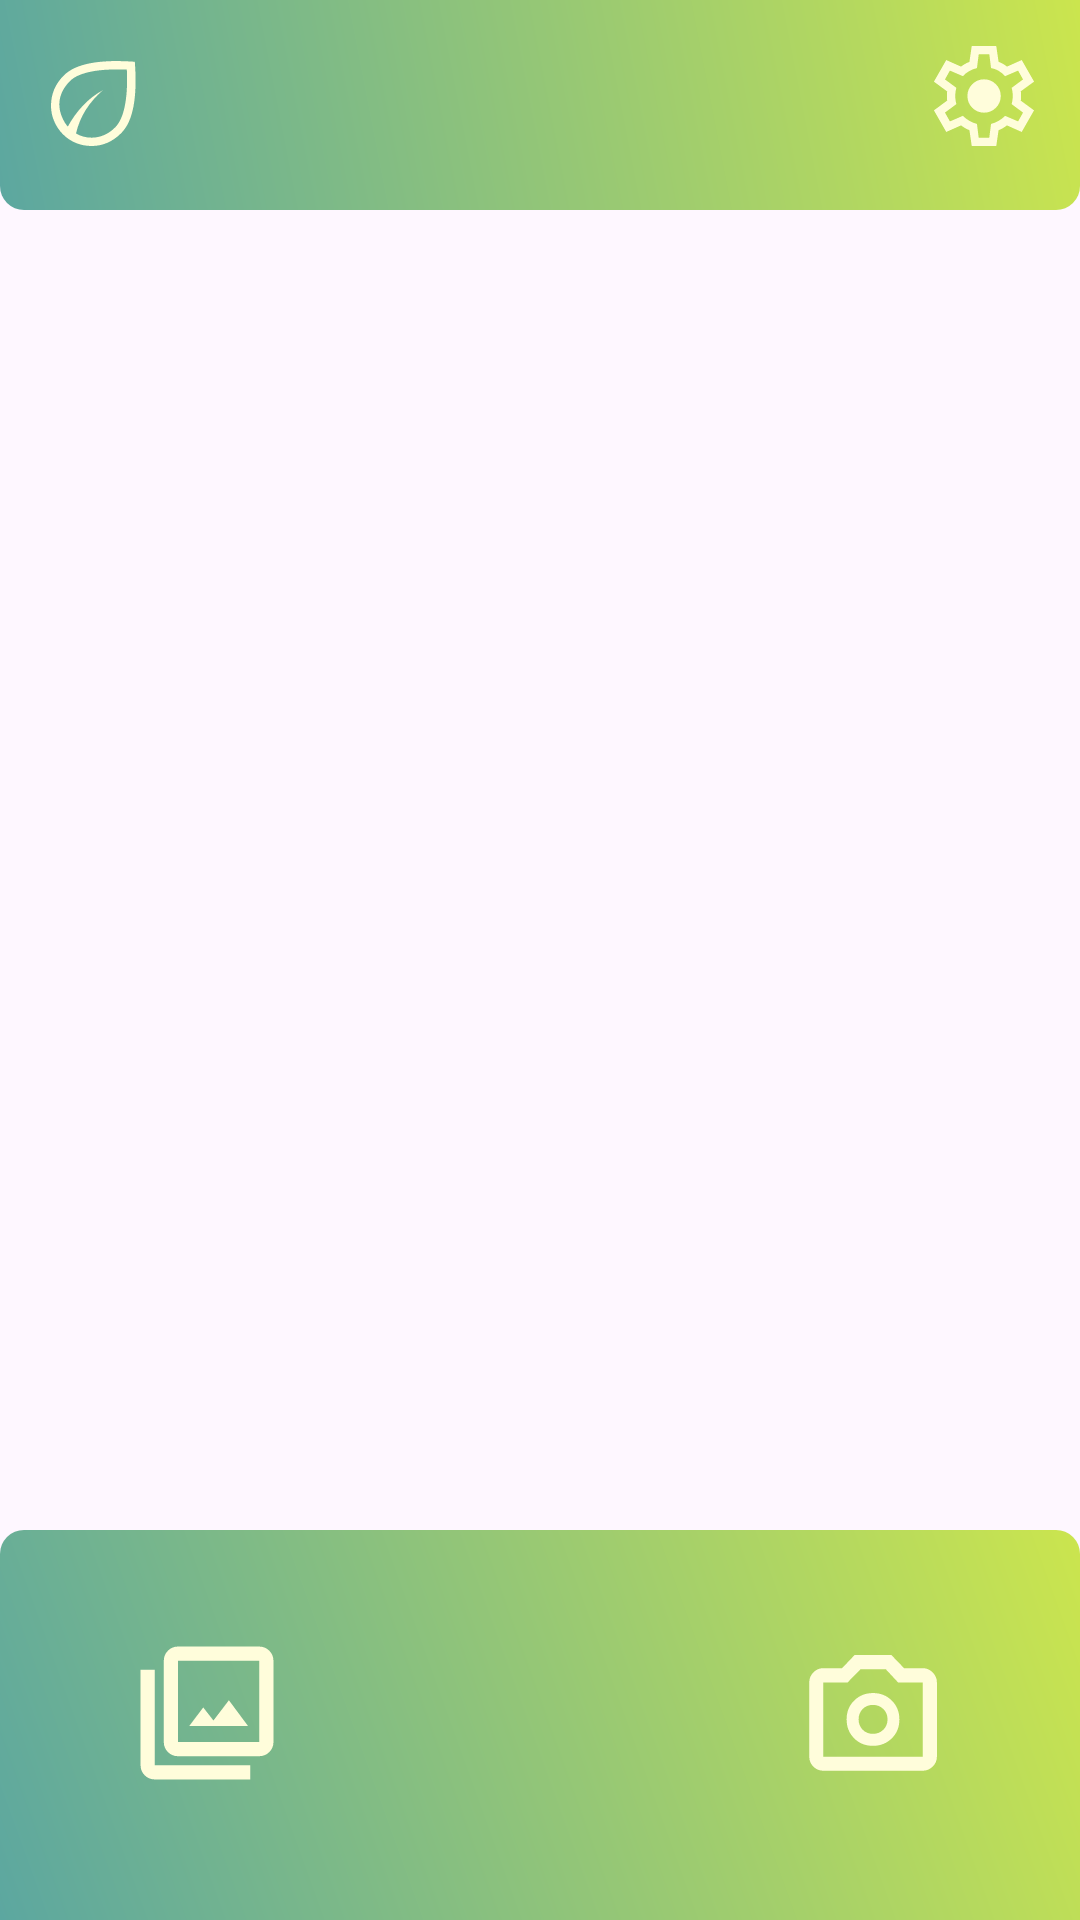

Screen size 1080px×1920px. Icon name, then its center in pixels as (x,y):
eco: (93,103)
photo camera: (873,1713)
photo library: (207,1713)
settings: (984,96)
